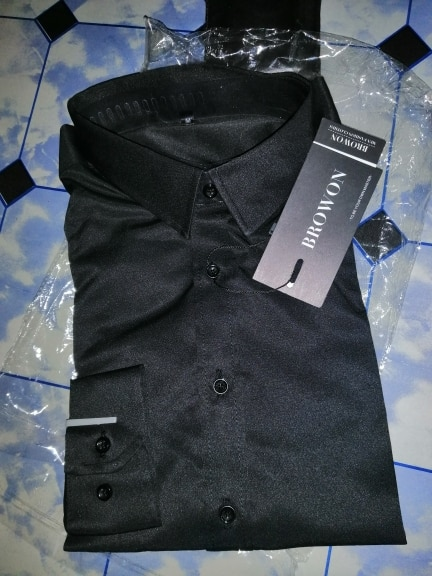shirts: (58, 65, 409, 548)
